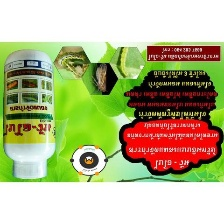insecticide: (0, 48, 58, 180)
